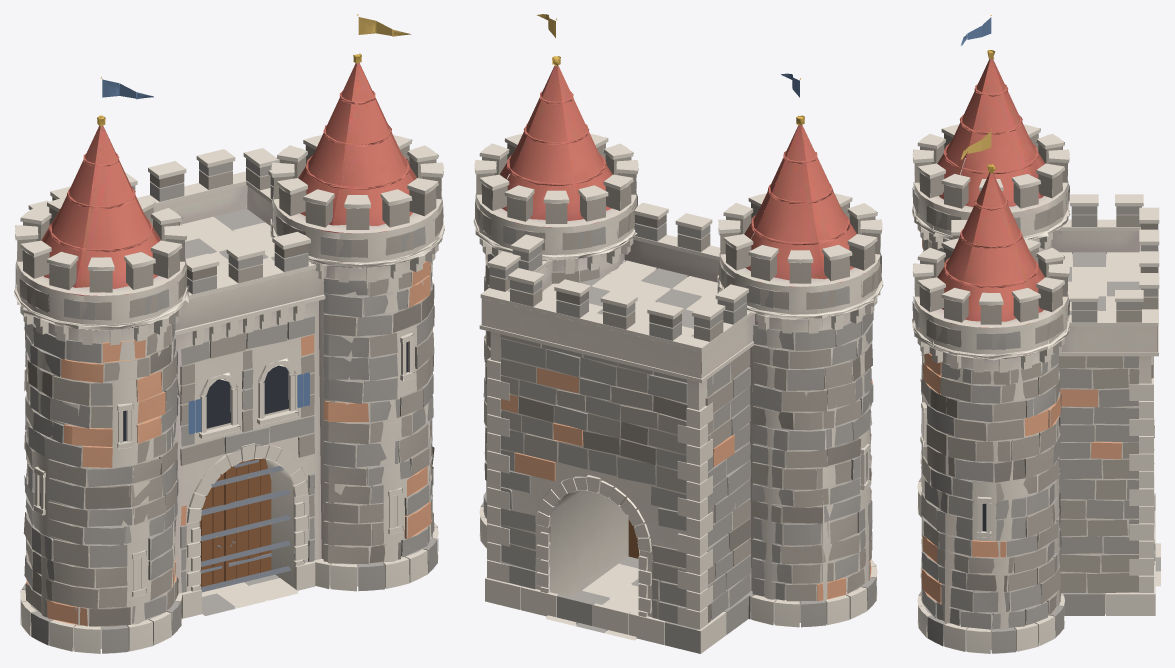
The model's file is torre_puerta.glb.
3 renders of one model, left to right at view 1: azimuth 30°, elevation 25°; view 2: azimuth 150°, elevation 25°; view 3: azimuth 270°, elevation 25°, orthographic. The views are drawn at different scales.
Parts seen in each view (by area): view 1: gatehouse_body; view 2: gatehouse_body; view 3: gatehouse_body.
Boxes of the visible parts, x1,y1,x2,y2 form: gatehouse_body: (14,14,444,653); gatehouse_body: (473,14,883,653); gatehouse_body: (912,15,1160,653).
Size of the model in its own units: 13.52 by 17 by 7.75.
Materials: 14 (1 with a texture image).
